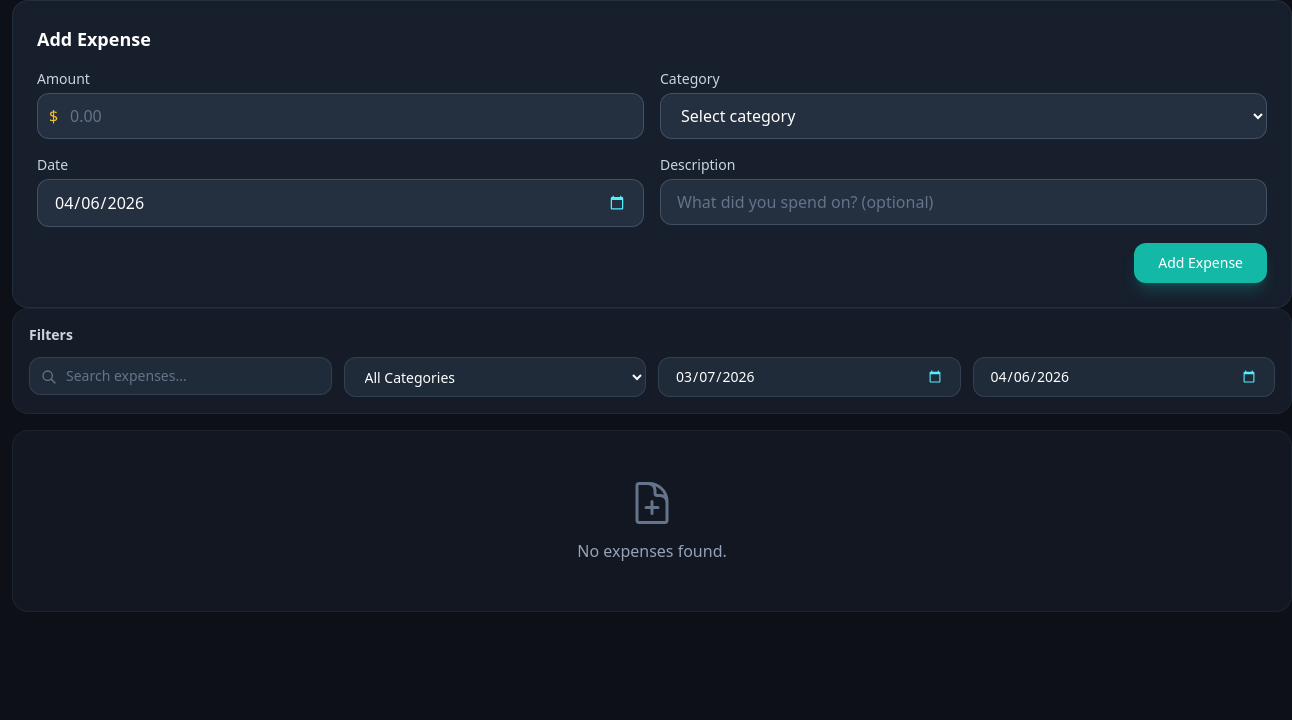
Test: Expenses view › adding expenses › adds a new expense via the form
This screenshot has width=1292, height=720.
Expected: the text "No expenses found." is shown, x1=577 y1=540 x2=727 y2=562
Type "15.99" into the number field with placeholder "0.00" at coordinates (340, 116), box x1=37 y1=93 x2=644 y2=139
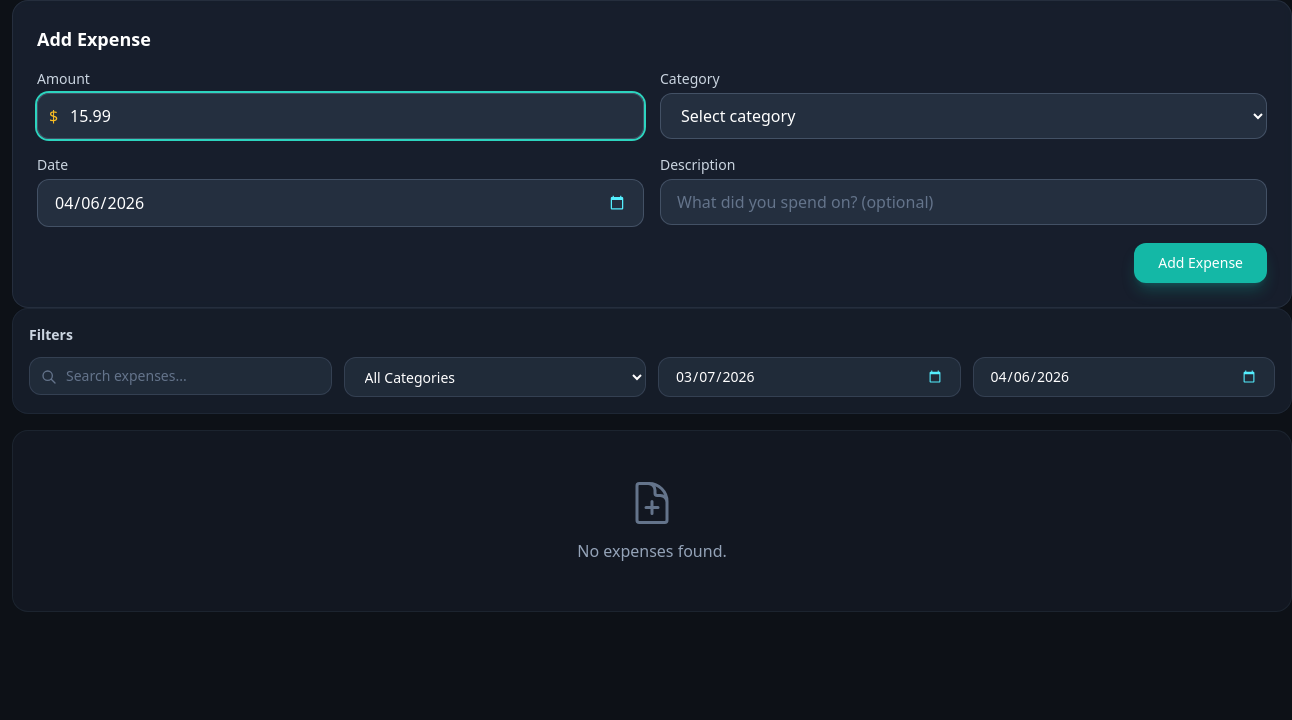
Select "Food" in the dropdown below "Category" at coordinates (964, 116), box x1=660 y1=93 x2=1267 y2=139
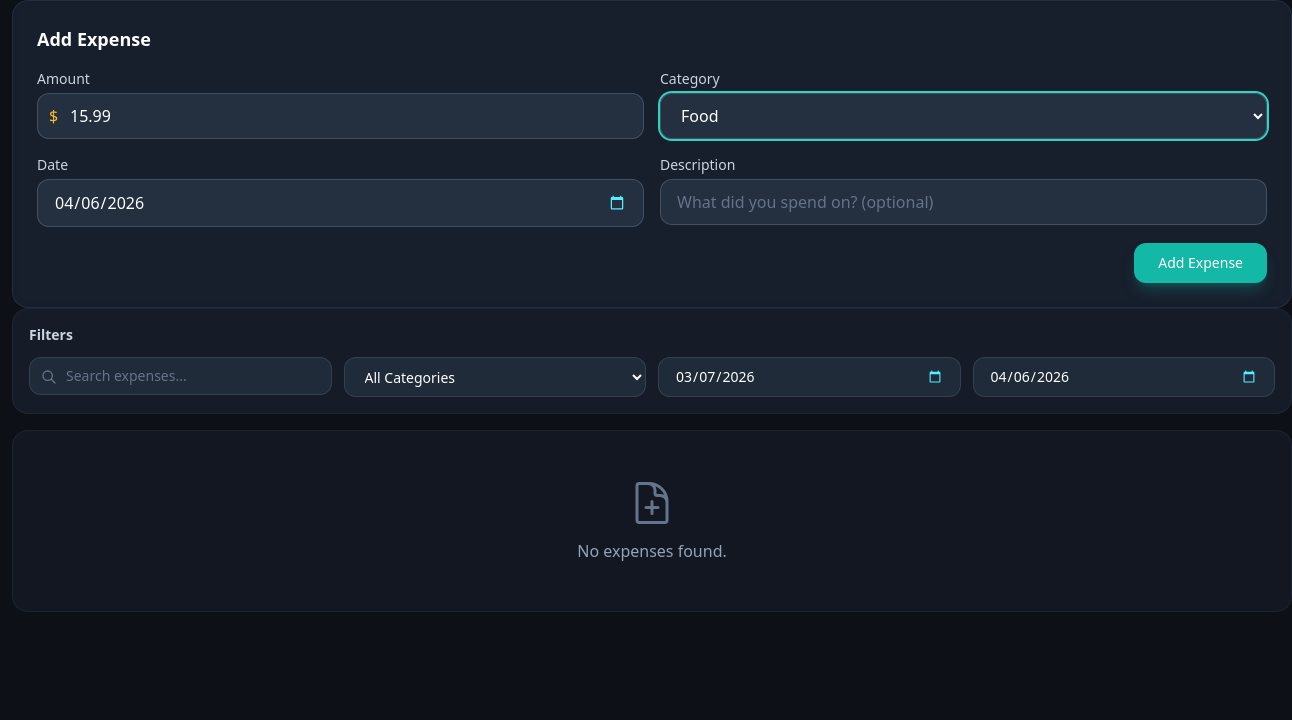
Type "Tacos" into the field with placeholder "What did you spend on? (optional)" at coordinates (964, 202), box x1=660 y1=179 x2=1267 y2=225
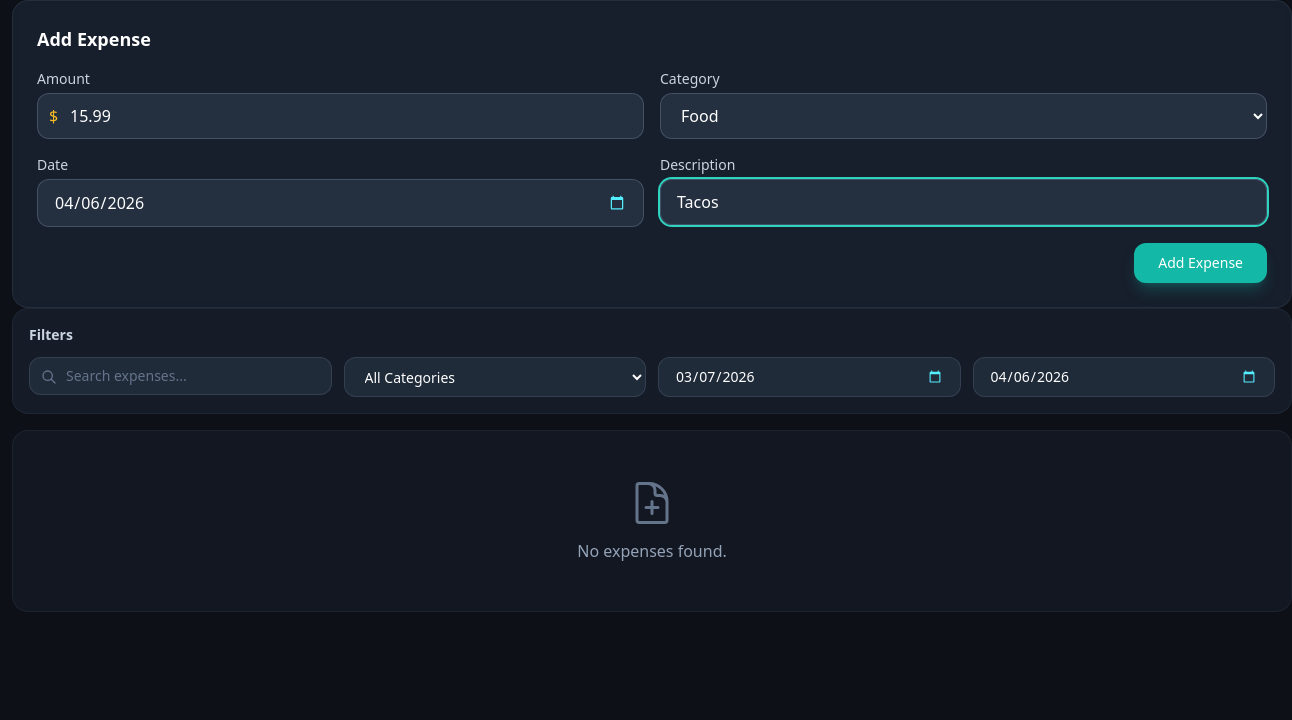
Click the button "Add Expense" at coordinates (1201, 263), box x1=1134 y1=243 x2=1267 y2=283
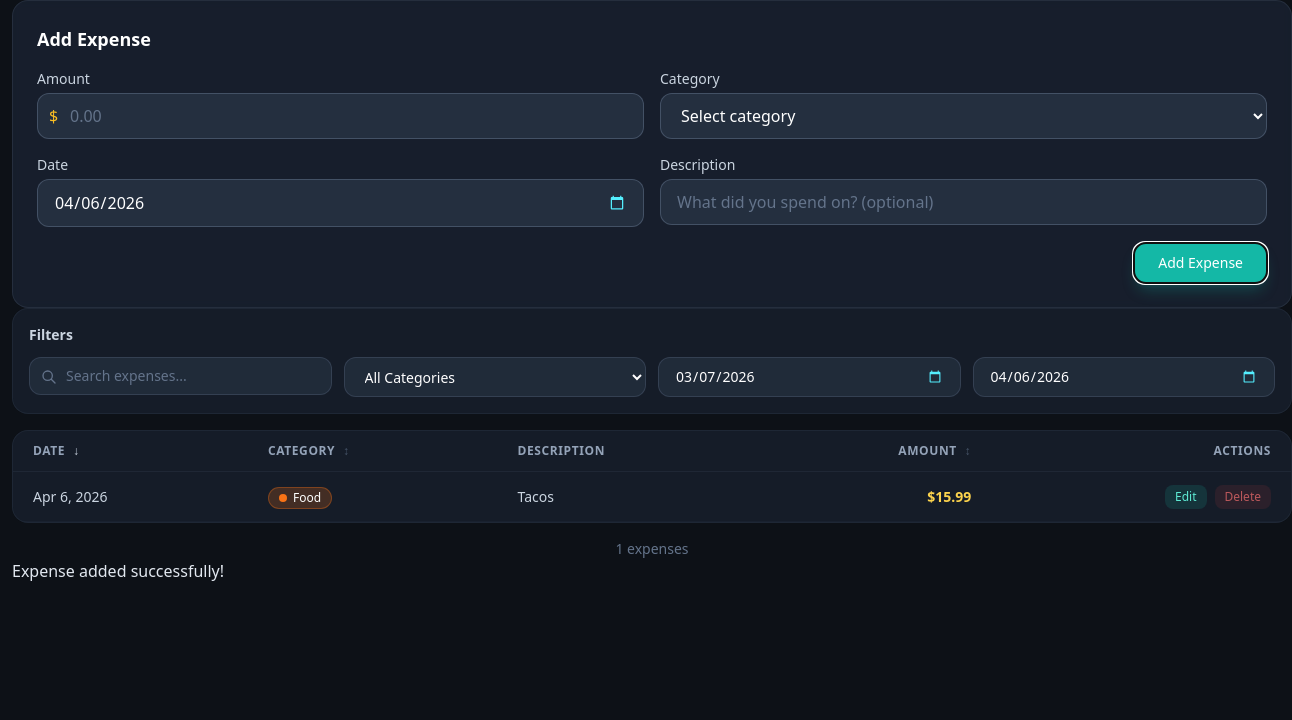
Expected: the text "Tacos" is shown, x1=518 y1=486 x2=554 y2=506
Expected: the text "$15.99" is shown, x1=759 y1=472 x2=991 y2=522
